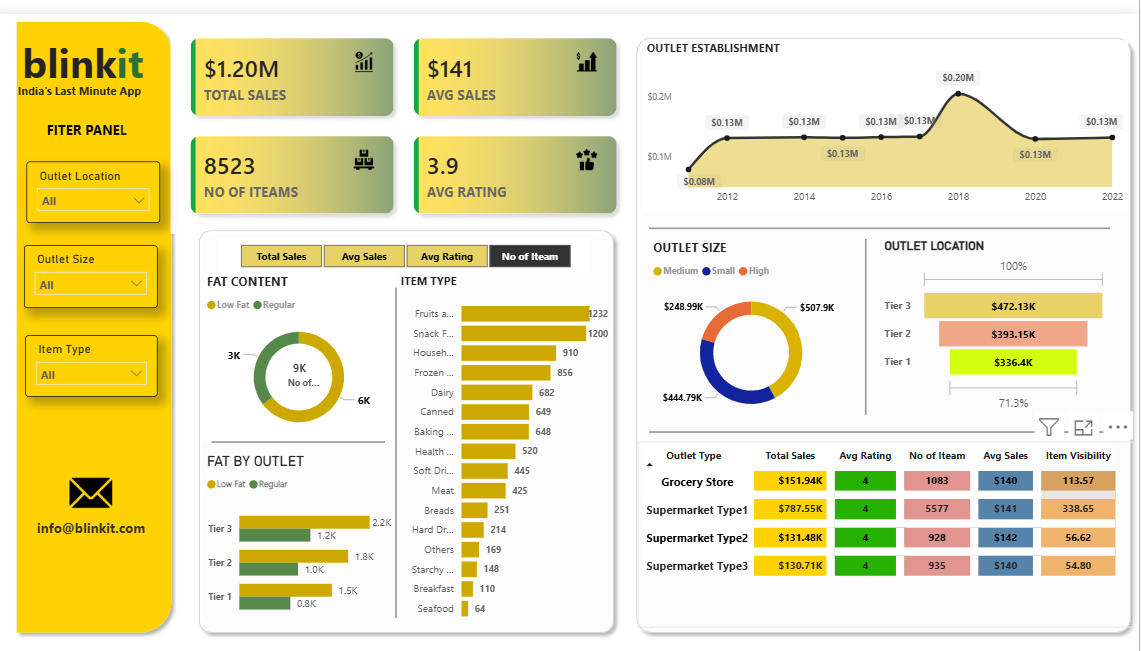

Layout of this report page (visuals, bound fields, positions):
{"tool":"powerbi","page":{"name":"Page 1","canvas":[1377,800],"ordinal":0},"visuals":[{"type":"shape","box":[23.9,0,203.6,749.9],"z":0},{"type":"textbox","box":[23.6,78.2,165.3,44.3],"z":1000},{"type":"textbox","box":[23.6,19.2,177.1,73.8],"z":2000},{"type":"cardVisual","fields":{"Data":["BlinkIT Grocery Data.Total Sales","BlinkIT Grocery Data.Avg Sales","BlinkIT Grocery Data.No of Iteam","BlinkIT Grocery Data.Avg Rating"]},"box":[213.1,0,569.7,269.4],"z":3000},{"type":"shape","box":[242.6,249.3,514.7,500],"z":4000},{"type":"donutChart","title":"FAT CONTENT","fields":{"Y":["BlinkIT Grocery Data.No of Iteam"],"Category":["BlinkIT Grocery Data.Item Fat Content"]},"box":[256,309.7,230.6,202.4],"z":5000},{"type":"slicer","fields":{"Values":["Metric.Metric"]},"box":[274.8,269.4,445,40.2],"z":6000},{"type":"cardVisual","fields":{"Data":["BlinkIT Grocery Data.No of Iteam"]},"box":[313.7,399.5,115.3,63],"z":7000},{"type":"clusteredBarChart","title":" FAT BY OUTLET ","fields":{"Y":["BlinkIT Grocery Data.No of Iteam"],"Category":["BlinkIT Grocery Data.Outlet Location Type"],"Series":["BlinkIT Grocery Data.Item Fat Content"]},"box":[256,525.5,230.6,210.5],"z":8000},{"type":"shape","box":[266.8,492,207.8,40.2],"z":9000},{"type":"shape","box":[386.1,327.1,202.4,395.4],"z":10000},{"type":"barChart","title":" ITEM TYPE","fields":{"Y":["BlinkIT Grocery Data.No of Iteam"],"Category":["BlinkIT Grocery Data.Item Type"]},"box":[487.9,309.7,258.7,426.3],"z":11000},{"type":"shape","box":[766.8,20.1,609.9,730.6],"z":12000},{"type":"lineChart","title":"OUTLET ESTABLISHMENT","fields":{"Y":["Sum(BlinkIT Grocery Data.Sales)"],"Category":["BlinkIT Grocery Data.Outlet Establishment Year"]},"box":[782.8,30.8,580.4,205.1],"z":13000},{"type":"shape","box":[790.9,235.9,552.3,40.2],"z":14000},{"type":"donutChart","title":"OUTLET SIZE","fields":{"Y":["Sum(BlinkIT Grocery Data.Sales)"],"Category":["BlinkIT Grocery Data.Outlet Size"]},"box":[790.9,269.4,245,225],"z":15000},{"type":"shape","box":[946.4,269.4,207.8,210.5],"z":16000},{"type":"shape","box":[790.9,479.9,552.3,40.2],"z":17000},{"type":"funnel","title":"OUTLET LOCATION","fields":{"Category":["BlinkIT Grocery Data.Outlet Location Type"],"Y":["Sum(BlinkIT Grocery Data.Sales)"]},"box":[1067,269.4,276.1,210.5],"z":18000},{"type":"pivotTable","fields":{"Rows":["BlinkIT Grocery Data.Outlet Type"],"Values":["BlinkIT Grocery Data.Total Sales","BlinkIT Grocery Data.Avg Rating","BlinkIT Grocery Data.No of Iteam","BlinkIT Grocery Data.Avg Sales","Sum(BlinkIT Grocery Data.Item Visibility)"]},"box":[777.5,512.1,593.8,222.5],"z":19000},{"type":"slicer","fields":{"Values":["BlinkIT Grocery Data.Outlet Location Type"]},"box":[44.9,176.6,160.2,73.3],"z":20000},{"type":"slicer","fields":{"Values":["BlinkIT Grocery Data.Item Type"]},"box":[43.4,384.7,158.7,73.3],"z":21000},{"type":"slicer","fields":{"Values":["BlinkIT Grocery Data.Outlet Size"]},"box":[41.9,276.9,160.2,74.8],"z":22000},{"type":"actionButton","box":[10.5,31.4,89.8,9],"z":23000},{"type":"textbox","box":[64.4,122.7,124.2,40.4],"z":24000},{"type":"image","box":[64.4,547.8,115.2,50.9],"z":25000},{"type":"textbox","box":[52.4,598.7,148.2,106.3],"z":26000}]}

Visuals, with their boxes in screenshot pixels (x1, y1, x2, y2), scaled from the page's 1377x800 canvas onto the 1141x651 screenshot:
shape: (20,0,189,610)
textbox: (20,64,157,100)
textbox: (20,16,166,76)
cardVisual - BlinkIT Grocery Data.Total Sales x BlinkIT Grocery Data.Avg Sales: (177,0,649,219)
shape: (201,203,628,610)
"FAT CONTENT" donutChart: (212,252,403,417)
slicer - Metric.Metric: (228,219,596,252)
cardVisual - BlinkIT Grocery Data.No of Iteam: (260,325,355,376)
" FAT BY OUTLET " clusteredBarChart: (212,428,403,599)
shape: (221,400,393,433)
shape: (320,266,488,588)
" ITEM TYPE" barChart: (404,252,619,599)
shape: (635,16,1140,611)
"OUTLET ESTABLISHMENT" lineChart: (649,25,1130,192)
shape: (655,192,1113,225)
"OUTLET SIZE" donutChart: (655,219,858,402)
shape: (784,219,956,391)
shape: (655,391,1113,423)
"OUTLET LOCATION" funnel: (884,219,1113,391)
pivotTable - BlinkIT Grocery Data.Outlet Type x BlinkIT Grocery Data.Total Sales: (644,417,1136,598)
slicer - BlinkIT Grocery Data.Outlet Location Type: (37,144,170,203)
slicer - BlinkIT Grocery Data.Item Type: (36,313,167,373)
slicer - BlinkIT Grocery Data.Outlet Size: (35,225,167,286)
actionButton: (9,26,83,33)
textbox: (53,100,156,133)
image: (53,446,149,487)
textbox: (43,487,166,574)
